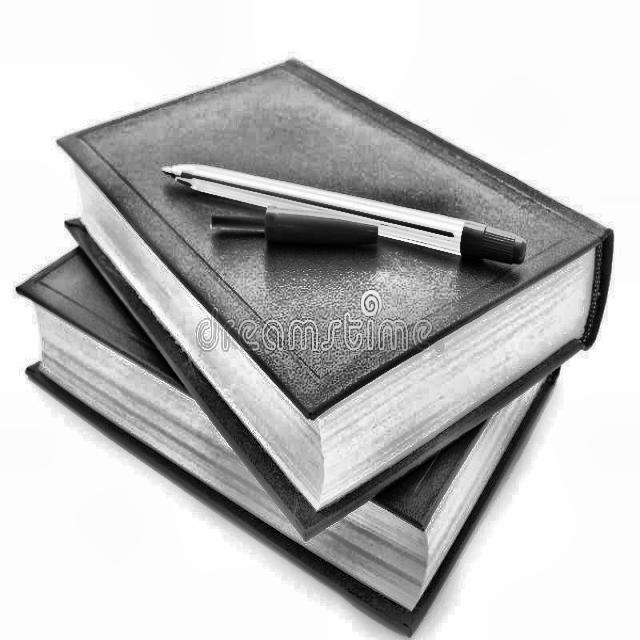Pen: (162, 164, 527, 264)
